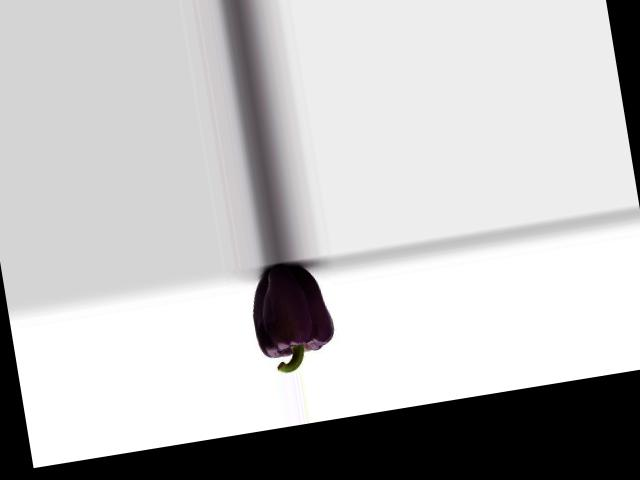bell_pepper: (237, 258, 345, 376)
